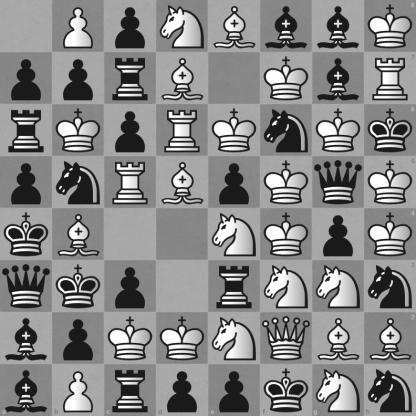B: (364, 312, 416, 364), (53, 209, 104, 260), (157, 53, 208, 104), (157, 157, 208, 208), (209, 1, 260, 52), (313, 313, 364, 364)
K: (364, 156, 416, 209), (364, 0, 416, 52), (364, 209, 416, 260), (53, 105, 104, 156), (105, 313, 156, 364), (157, 313, 208, 364), (209, 105, 260, 156), (261, 53, 312, 104), (261, 157, 312, 208), (261, 209, 312, 260), (313, 105, 364, 156)
N: (312, 364, 364, 416), (157, 1, 208, 52), (209, 209, 260, 260), (209, 313, 260, 364), (261, 261, 312, 312), (313, 261, 364, 312)
P: (52, 364, 104, 416), (53, 1, 104, 52)
Q: (261, 313, 312, 364)
R: (364, 52, 416, 104), (105, 157, 156, 208), (157, 105, 208, 156)
b: (0, 364, 52, 416), (1, 313, 52, 364), (261, 1, 312, 52), (313, 1, 364, 52), (313, 53, 364, 104)
board: (0, 0, 415, 415)
k: (260, 364, 312, 416), (364, 104, 416, 156), (1, 209, 52, 260), (53, 261, 104, 312)
n: (364, 260, 416, 312), (364, 364, 416, 416), (53, 157, 104, 208), (261, 105, 312, 156)
p: (156, 364, 209, 416), (209, 364, 260, 416), (1, 53, 52, 104), (1, 157, 52, 208), (53, 53, 104, 104), (53, 313, 104, 364), (105, 1, 156, 52), (105, 105, 156, 156), (105, 261, 156, 312), (209, 157, 260, 208), (313, 209, 364, 260)
q: (1, 261, 52, 312), (313, 157, 364, 208)
r: (104, 364, 156, 416), (1, 105, 52, 156), (105, 53, 156, 104), (209, 261, 260, 312)
